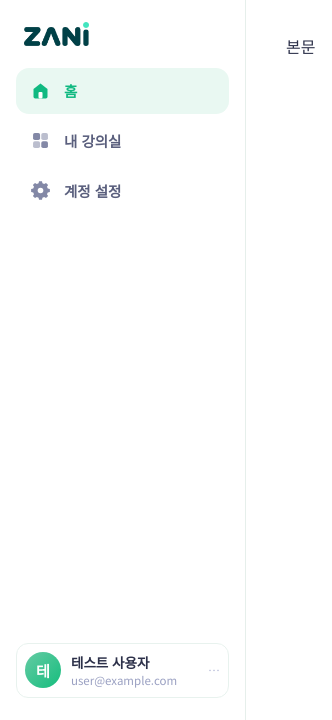
Scenario: AppShell 프로필 팝오버 › 회원 카드를 누르면 로그아웃이 열린다
This screenshot has width=332, height=720.
Check: the button "로그아웃" is not shown
Step 1. Click the button "테 테스트 사용자 user@example.com ⋯" → coordinates (122, 670), box x1=16 y1=642 x2=229 y2=698
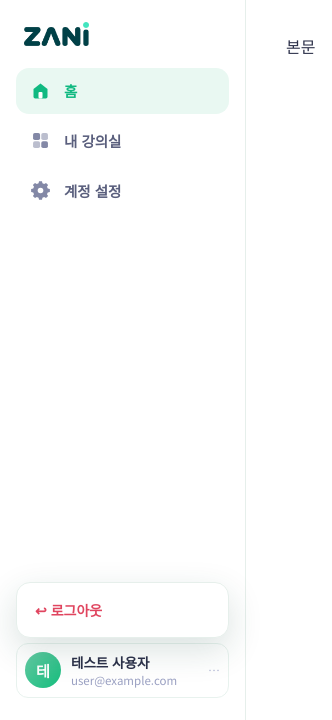
Check: the button "↩ 로그아웃" is shown, box x1=23 y1=589 x2=222 y2=631
